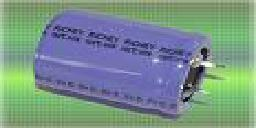Electrolytic-Capacitor: (31, 9, 230, 121)
